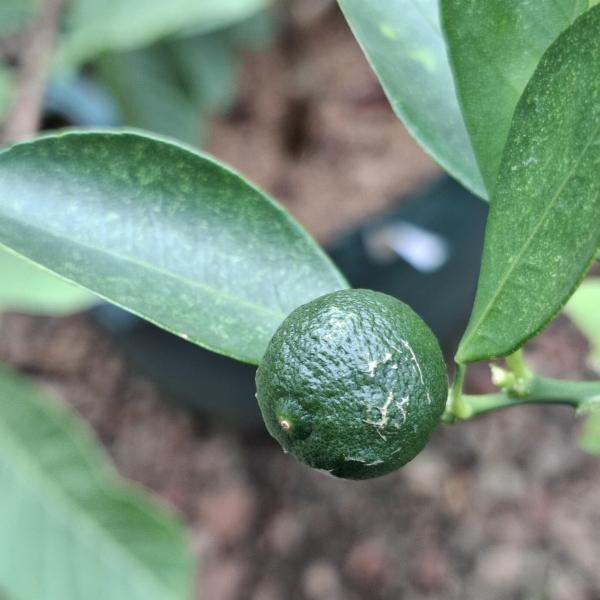Scab: (237, 276, 468, 515)
